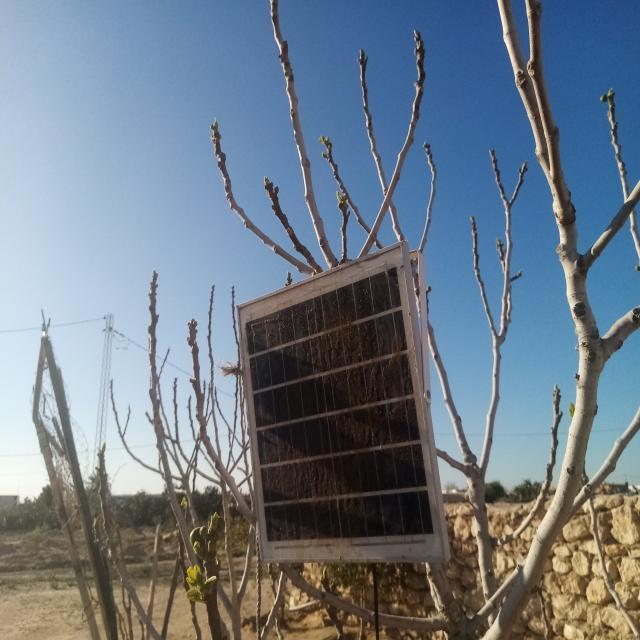faulty: (240, 248, 448, 560)
